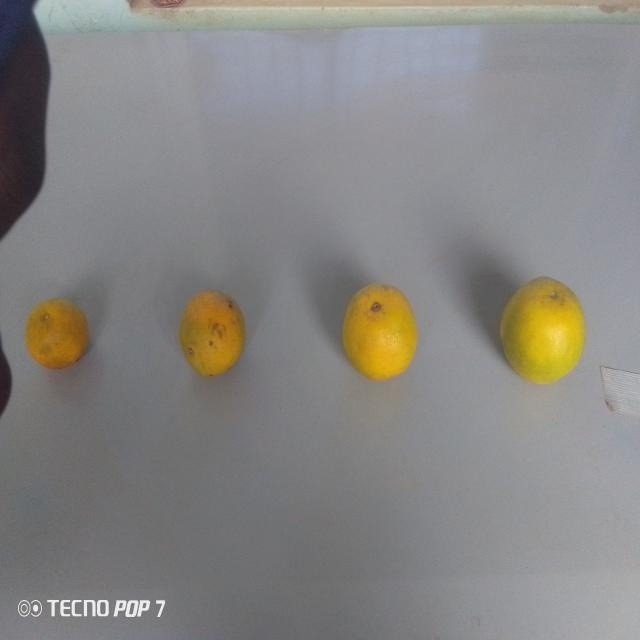agrume: (492, 271, 587, 388), (341, 277, 431, 395), (161, 282, 251, 386), (22, 297, 109, 383)
